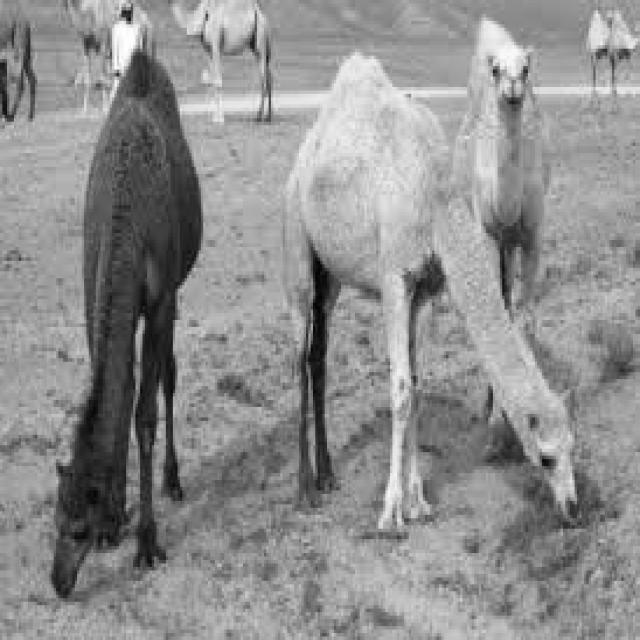Camel: (280, 45, 580, 536), (49, 45, 203, 598), (446, 11, 551, 459), (166, 0, 273, 122), (584, 3, 638, 98)
